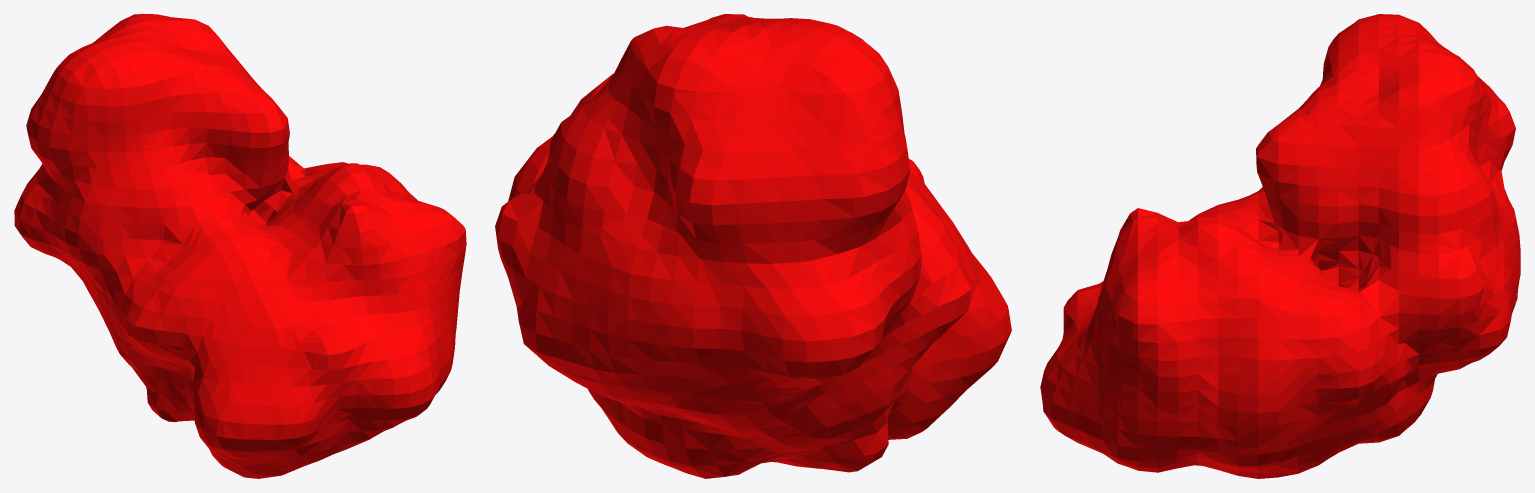
Rendered from acuI_coarse.dae.
The picture shows the model from 3 angles, left to right: view 1: azimuth 30°, elevation 25°; view 2: azimuth 150°, elevation 25°; view 3: azimuth 270°, elevation 25°; orthographic projection. The views are drawn at different scales.
Visible parts, largest first — view 1: acuI; view 2: acuI; view 3: acuI.
Boxes of the visible parts, x1,y1,x2,y2 form: acuI: (14,14,466,478); acuI: (495,14,1011,478); acuI: (1040,14,1520,478).
Bounding box in the file's own units: 49.62 × 54.91 × 59.01.
